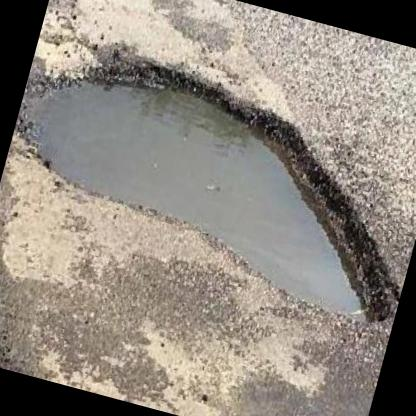pothole: (0, 29, 416, 335)
